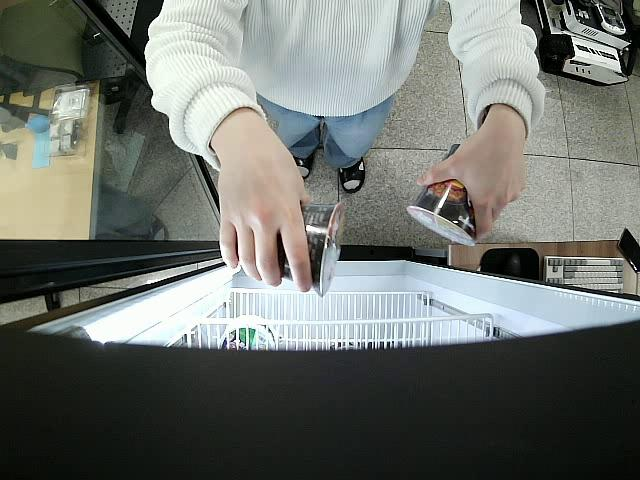00_hand: (216, 156, 314, 290), (418, 134, 525, 242)
08_buldak_S: (234, 199, 350, 296), (408, 144, 481, 249)
